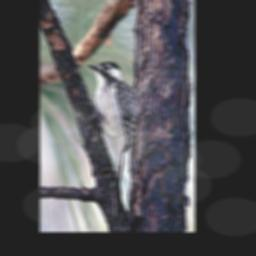Woodpecker: (86, 61, 139, 184)
